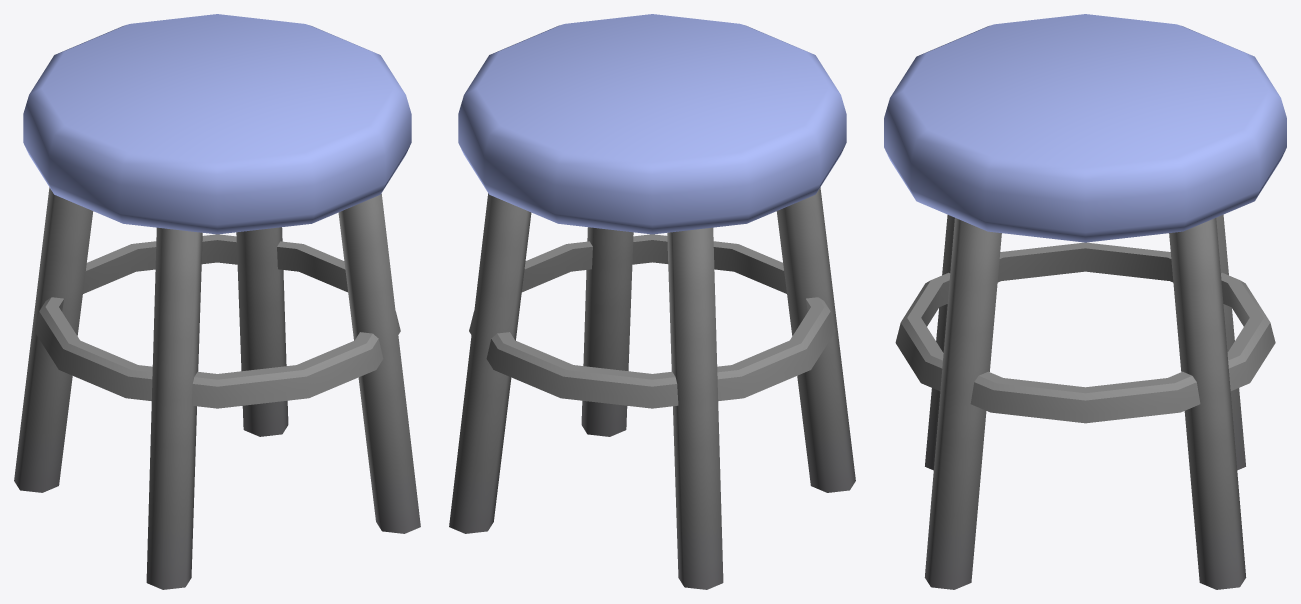
File: Chair_2_C.fbx
The picture shows the model from 3 angles, left to right: view 1: azimuth 30°, elevation 25°; view 2: azimuth 150°, elevation 25°; view 3: azimuth 270°, elevation 25°; orthographic projection. The views are drawn at different scales.
Parts seen in each view (by area): view 1: Chair_2_C; view 2: Chair_2_C; view 3: Chair_2_C.
Boxes of the visible parts, x1,y1,x2,y2 form: Chair_2_C: (14,14,420,589); Chair_2_C: (449,14,855,589); Chair_2_C: (884,14,1286,589).
Bounding box in the file's own units: 50.02 × 59.1 × 50.04.
